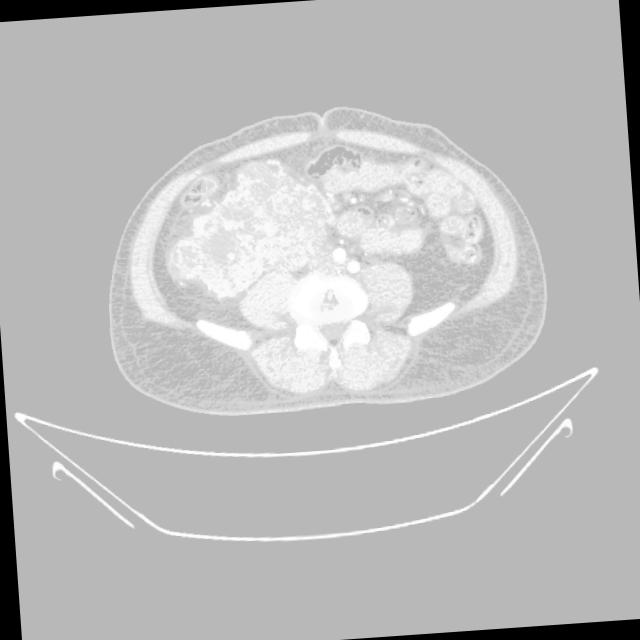TUMOR: (132, 122, 570, 362)
